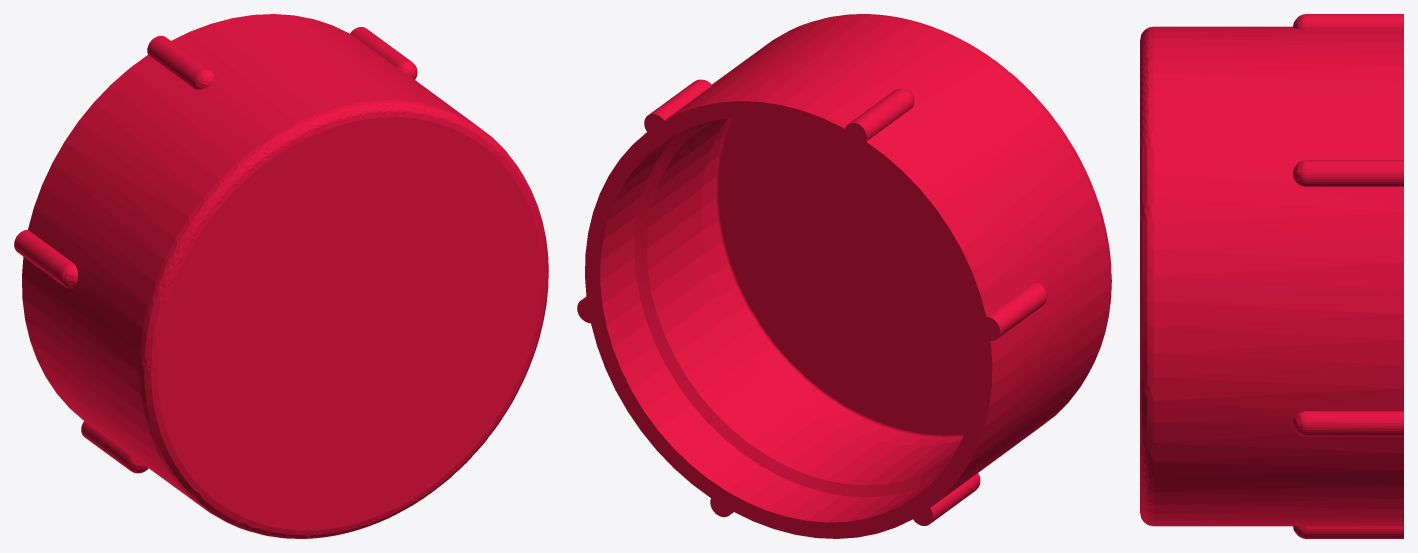
3 renders of one model, left to right at view 1: azimuth 30°, elevation 25°; view 2: azimuth 150°, elevation 25°; view 3: azimuth 270°, elevation 25°, orthographic. The views are drawn at different scales.
Parts seen in each view (by area): view 1: 10069561; view 2: 10069561; view 3: 10069561.
Part boxes in pixels (<box>): 10069561: <box>14,14,548,538</box>; 10069561: <box>577,14,1111,538</box>; 10069561: <box>1140,14,1403,538</box>.
Size of the model in its own units: 1 by 0.9634 by 0.5086.
